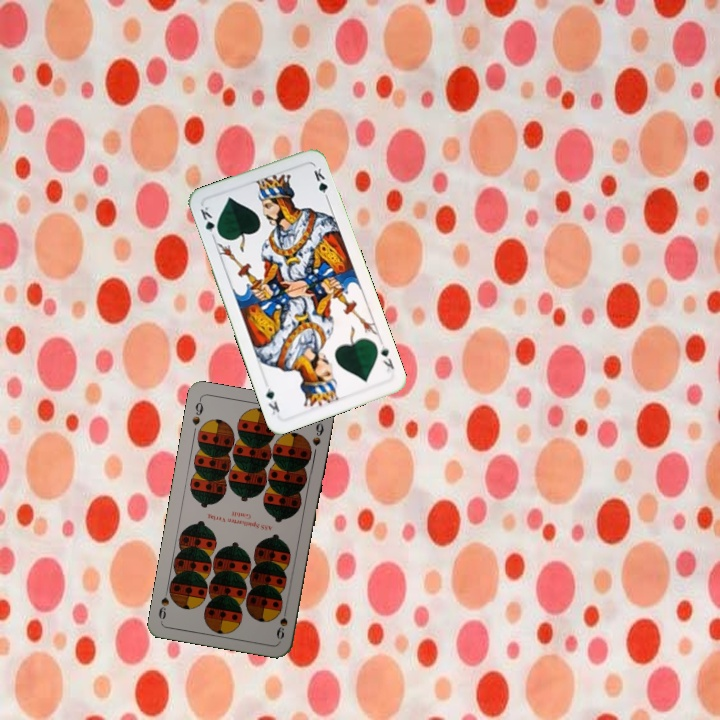GK: (196, 202, 222, 242), (376, 341, 397, 374)
S9: (273, 602, 290, 642), (188, 396, 206, 428)
